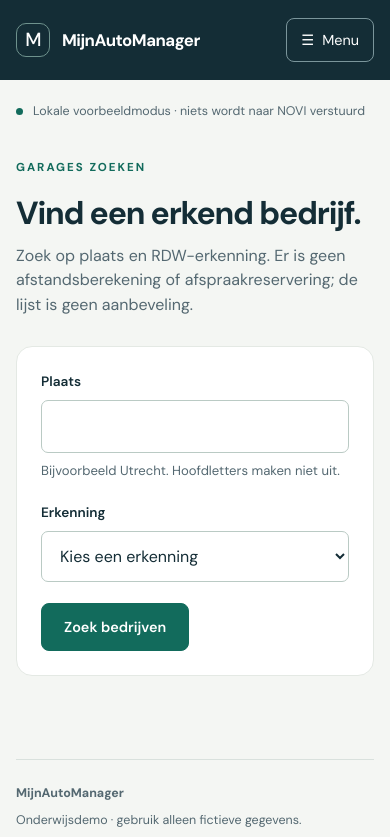
it: mobiel menu › klapt open en dicht met de menuknop
The width and height of the screenshot is (390, 837).
Click the button "☰ Menu" at (330, 40), box [286,18,374,62]
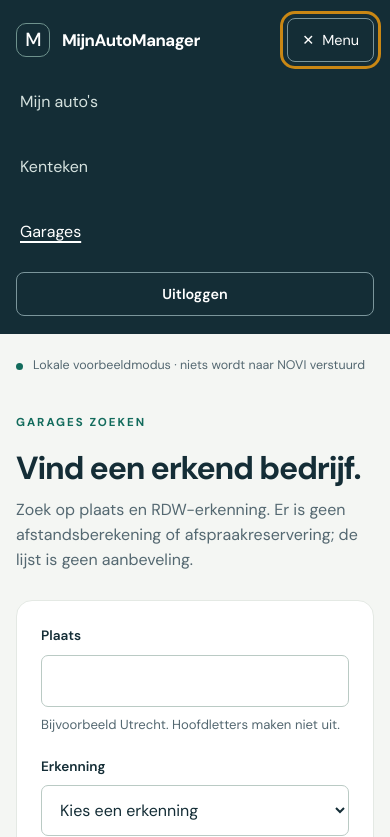
Expected: the button "✕ Menu" is expanded, [287,18,374,62]
Click the link "Kenteken" at (54, 166), box [20,156,88,177]
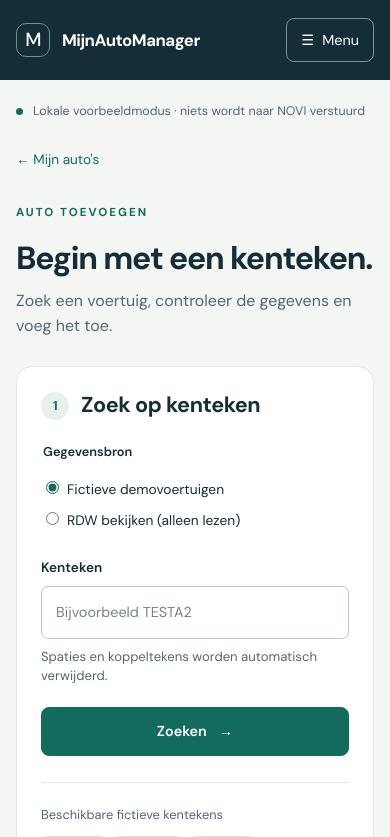
Expected: the button "☰ Menu" is collapsed, [286,18,374,62]
